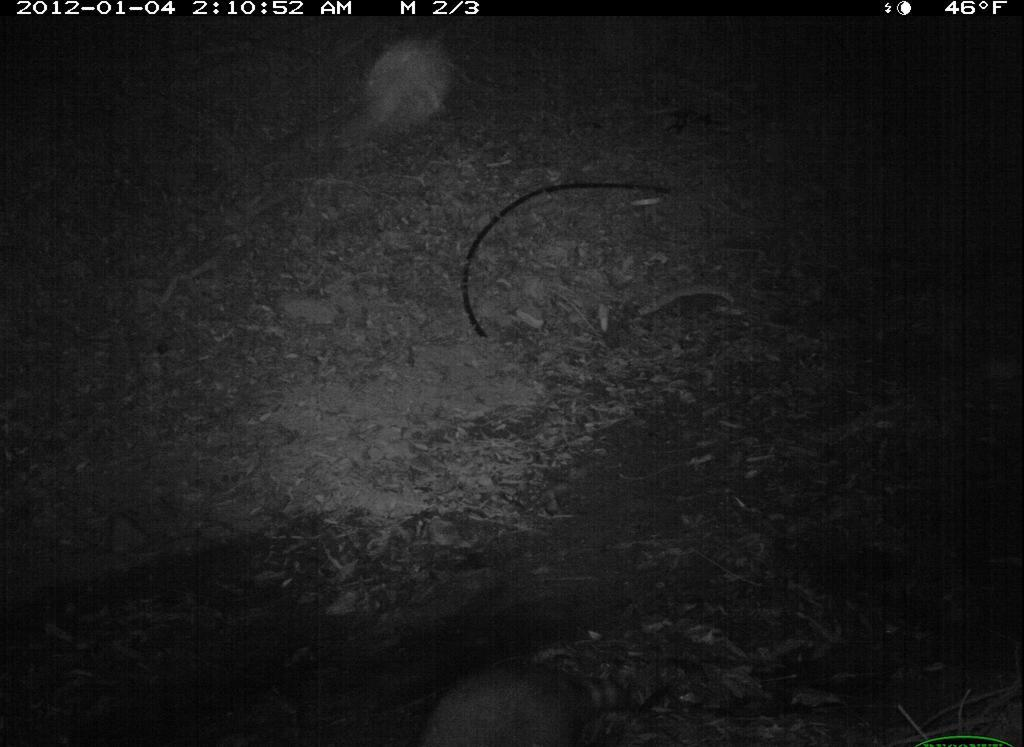raccoon: (402, 649, 675, 747)
